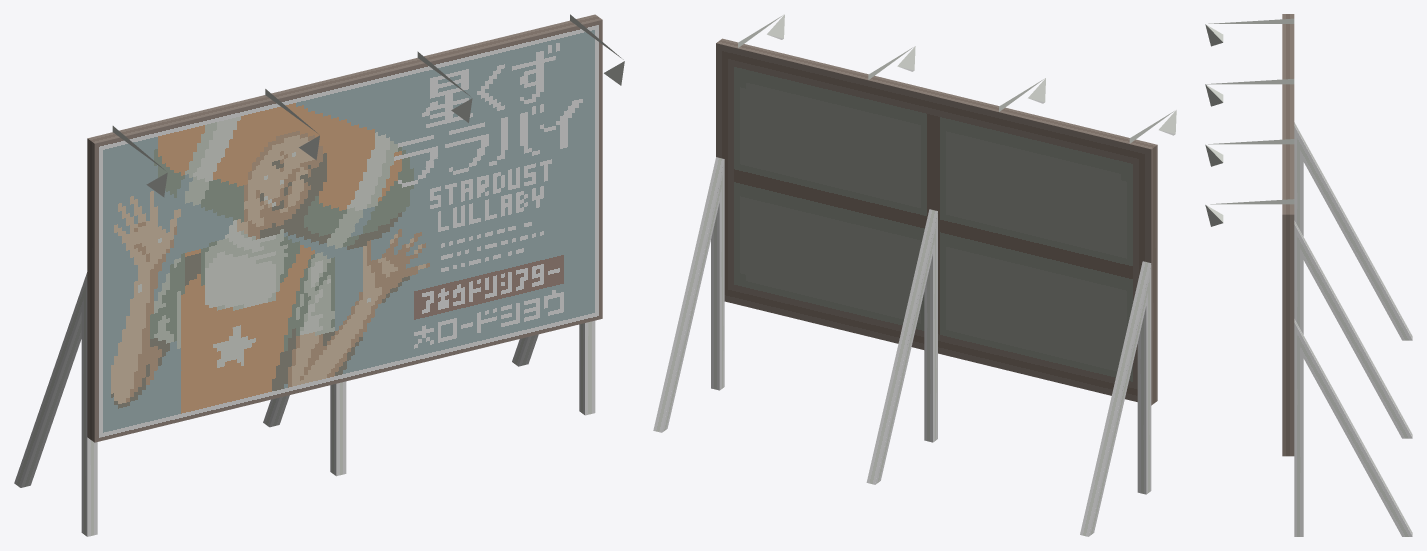
The model's file is 010a_Cinema_Marquee.glb.
3 views of the same model, side by side, from view 1: azimuth 30°, elevation 25°; view 2: azimuth 150°, elevation 25°; view 3: azimuth 270°, elevation 25° (orthographic). The views are drawn at different scales.
Visible parts, largest first — view 1: part_0; view 2: part_0; view 3: part_0.
Boxes of the visible parts, bbox=[...] form: part_0: bbox=[14, 14, 624, 536]; part_0: bbox=[653, 14, 1176, 536]; part_0: bbox=[1205, 14, 1412, 536].
Size of the model in its own units: 4 by 3.05 by 1.75.
1 material, 1 textured.
